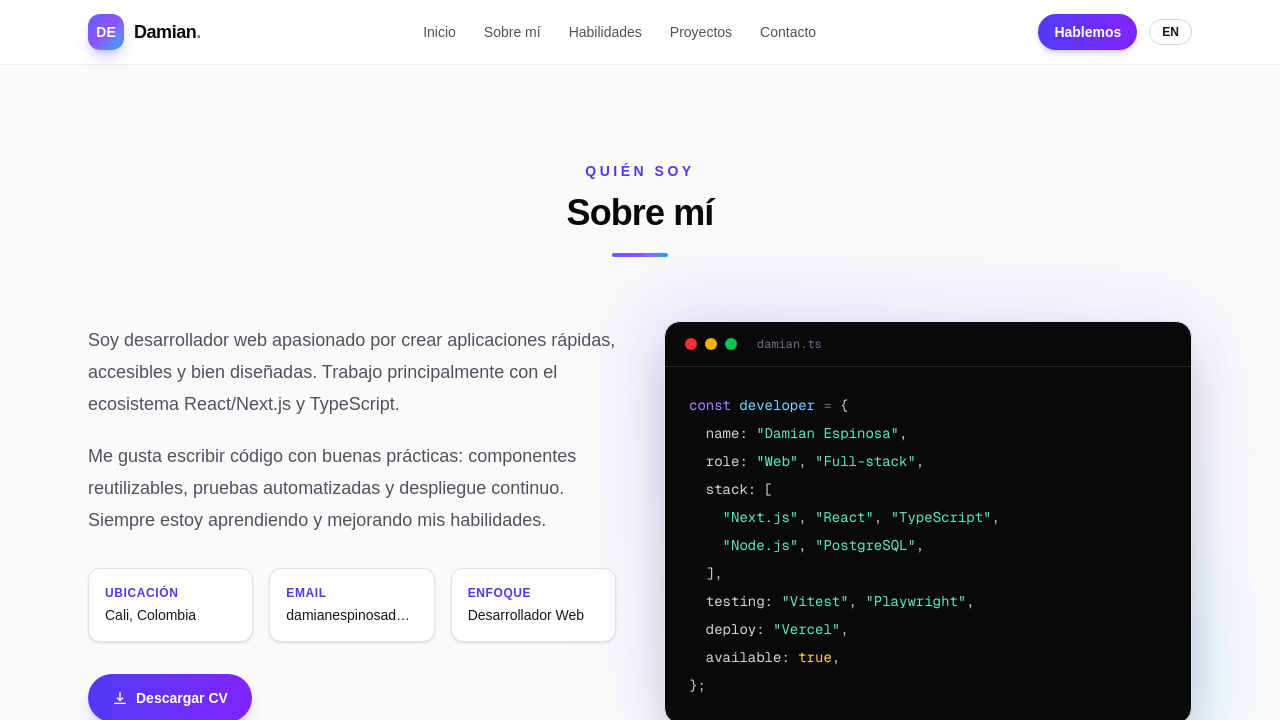
Test case: About › cambia el contenido al alternar idioma
The image size is (1280, 720).
Step 1. Click the button with aria-label "Cambiar a inglés" → [1171, 32], box [1149,19,1192,45]
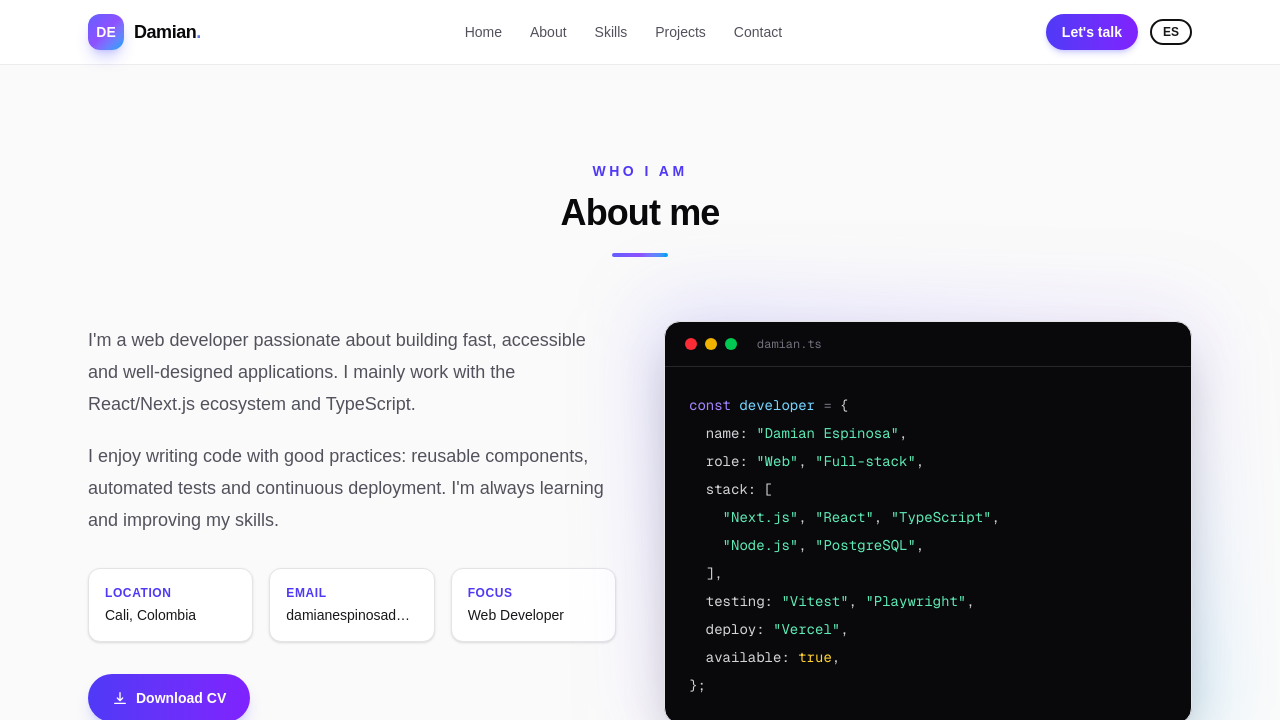
Expected: the heading "About me" is shown, [561,192,719,233]
Expected: the text "I'm a web developer passionate about building fast, accessible and well-designed applications. I mainly work with the Re" is shown, [88,330,586,414]
